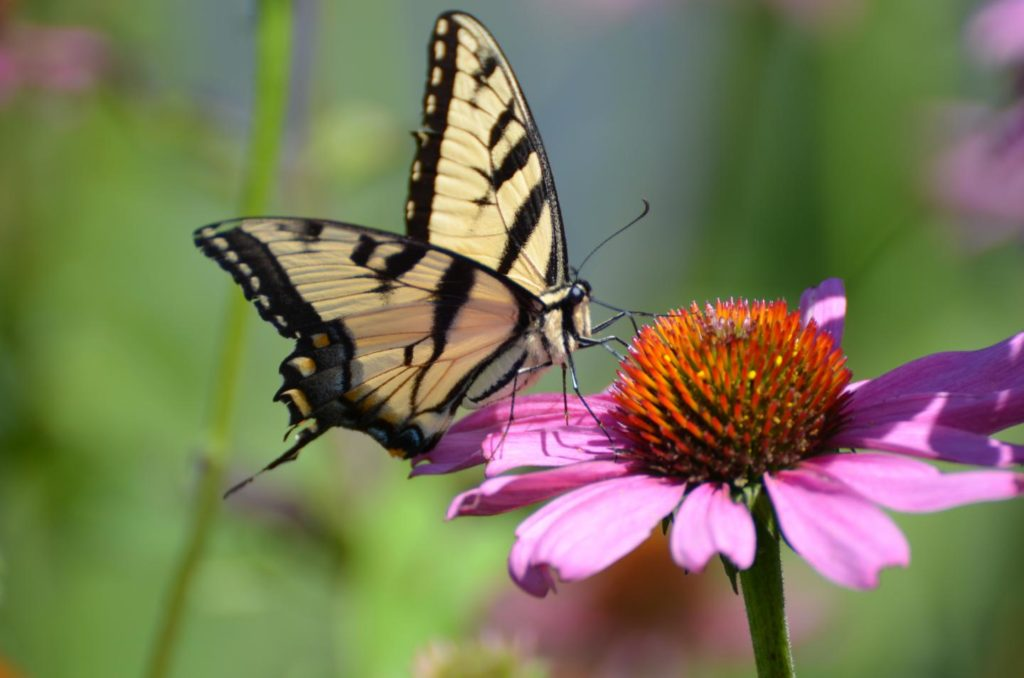Butterfly: (193, 9, 652, 480)
